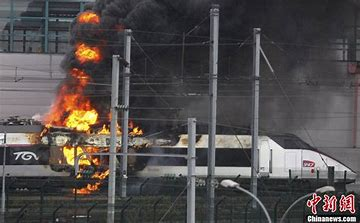fire: (45, 8, 135, 156)
